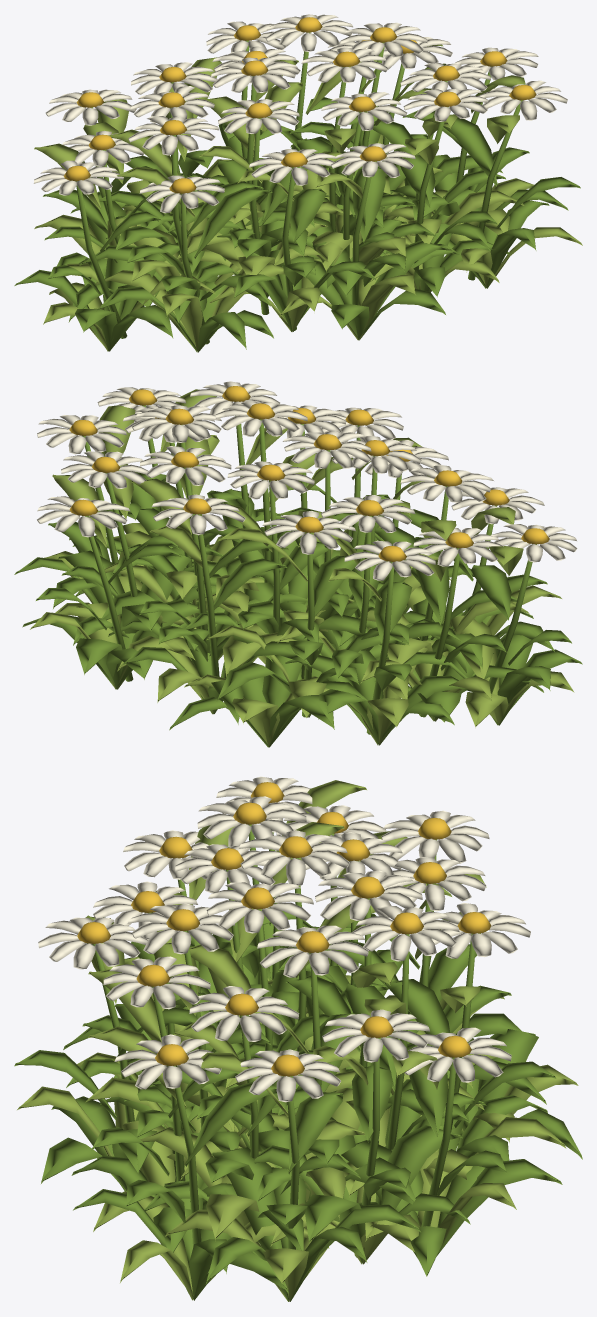
The model's file is flowers_cream.fbx.
3 renders of one model, top to bottom at view 1: azimuth 30°, elevation 25°; view 2: azimuth 150°, elevation 25°; view 3: azimuth 270°, elevation 25°, orthographic. The views are drawn at different scales.
Parts seen in each view (by area): view 1: flowers_cream • Flower foliage • garden green, flowers_cream • Daisy petal • warm cream, flowers_cream • Flower foliage • sunlit green, flowers_cream • Daisy pollen • warm gold; view 2: flowers_cream • Flower foliage • garden green, flowers_cream • Daisy petal • warm cream, flowers_cream • Flower foliage • sunlit green, flowers_cream • Daisy pollen • warm gold; view 3: flowers_cream • Flower foliage • garden green, flowers_cream • Daisy petal • warm cream, flowers_cream • Flower foliage • sunlit green, flowers_cream • Daisy pollen • warm gold.
Part boxes in pixels (<box>): flowers_cream • Flower foliage • garden green: <box>14,32,580,352</box>; flowers_cream • Daisy petal • warm cream: <box>33,14,567,213</box>; flowers_cream • Flower foliage • sunlit green: <box>34,44,582,352</box>; flowers_cream • Daisy pollen • warm gold: <box>63,17,536,193</box>; flowers_cream • Flower foliage • garden green: <box>14,405,582,747</box>; flowers_cream • Daisy petal • warm cream: <box>37,381,577,580</box>; flowers_cream • Flower foliage • sunlit green: <box>30,389,574,747</box>; flowers_cream • Daisy pollen • warm gold: <box>69,386,549,561</box>; flowers_cream • Flower foliage • garden green: <box>14,824,582,1301</box>; flowers_cream • Daisy petal • warm cream: <box>38,776,530,1102</box>; flowers_cream • Flower foliage • sunlit green: <box>17,780,578,1301</box>; flowers_cream • Daisy pollen • warm gold: <box>77,782,491,1076</box>.
Size of the model in its own units: 1.4 by 0.65 by 1.
